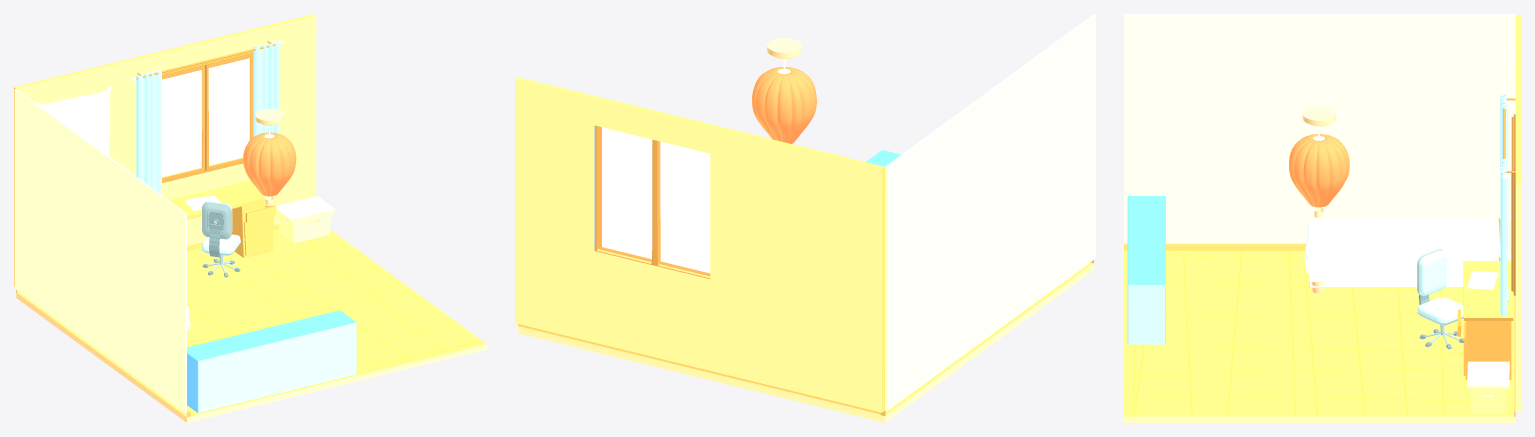
File: room.glb
The picture shows the model from 3 angles, left to right: view 1: azimuth 30°, elevation 25°; view 2: azimuth 150°, elevation 25°; view 3: azimuth 270°, elevation 25°; orthographic projection. The views are drawn at different scales.
Visible parts, largest first — view 1: Murs + Sol_18, Cube.017_46, object 23, Cube.005_24, Bueau_11, Circle.003_42, Plane_27, object 24, Cube.016_40, Cube.003_5, Cylinder_41, Cube_2; view 2: Murs + Sol_18, object 23, Circle.003_42, object 24, Cylinder_41; view 3: Murs + Sol_18, Cube.009_30, Cube.017_46, Bueau_11, Cube.010_29, Circle.003_42, Cube.016_40, Cube.005_24, Cube.003_5, Circle.002_28, Cube_2, object 24 (+2 smaller).
Part boxes in pixels (bbox=[...]): Murs + Sol_18: bbox=[14, 14, 486, 422]; Cube.017_46: bbox=[187, 310, 356, 412]; object 23: bbox=[162, 58, 248, 176]; Cube.005_24: bbox=[136, 40, 279, 194]; Bueau_11: bbox=[168, 180, 277, 257]; Circle.003_42: bbox=[243, 132, 296, 196]; Plane_27: bbox=[37, 86, 111, 156]; object 24: bbox=[162, 51, 253, 182]; Cube.016_40: bbox=[276, 196, 335, 243]; Cube.003_5: bbox=[202, 201, 232, 239]; Cylinder_41: bbox=[255, 108, 283, 138]; Cube_2: bbox=[201, 234, 240, 255]; Murs + Sol_18: bbox=[515, 14, 1095, 422]; object 23: bbox=[602, 127, 710, 273]; Circle.003_42: bbox=[752, 67, 816, 143]; object 24: bbox=[594, 125, 710, 278]; Cylinder_41: bbox=[767, 38, 801, 74]; Murs + Sol_18: bbox=[1124, 14, 1520, 422]; Cube.009_30: bbox=[1304, 217, 1470, 273]; Cube.017_46: bbox=[1127, 196, 1165, 344]; Bueau_11: bbox=[1457, 261, 1513, 379]; Cube.010_29: bbox=[1309, 220, 1498, 281]; Circle.003_42: bbox=[1289, 134, 1349, 207]; Cube.016_40: bbox=[1467, 361, 1509, 413]; Cube.005_24: bbox=[1500, 93, 1507, 316]; Cube.003_5: bbox=[1417, 249, 1446, 295]; Circle.002_28: bbox=[1309, 213, 1511, 293]; Cube_2: bbox=[1417, 297, 1463, 325]; object 24: bbox=[1511, 114, 1515, 295].
Size of the model in its own units: 22.41 by 14.86 by 22.26.
